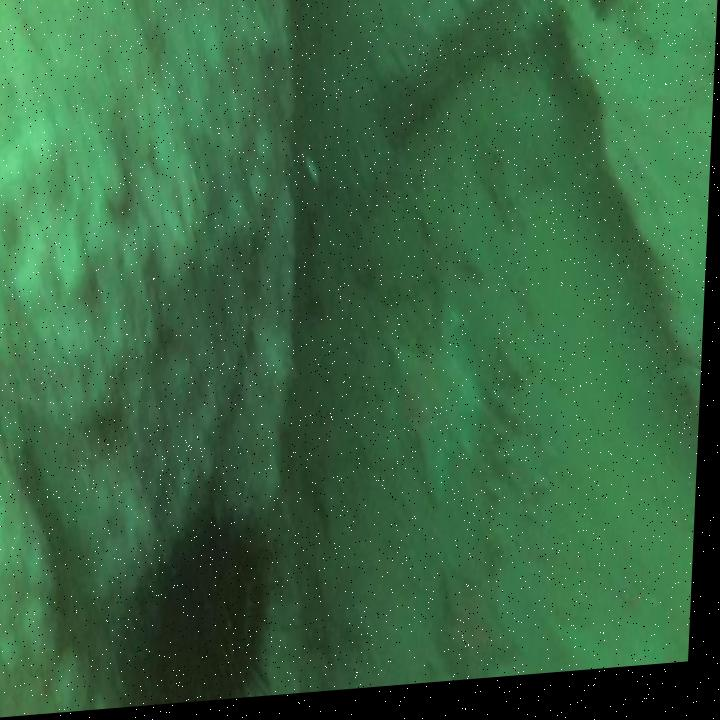echinus: (135, 475, 310, 710)
starfish: (388, 325, 498, 518)
